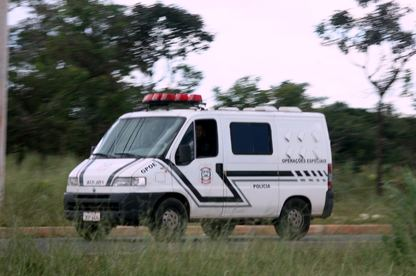ambulance: (65, 91, 335, 243)
